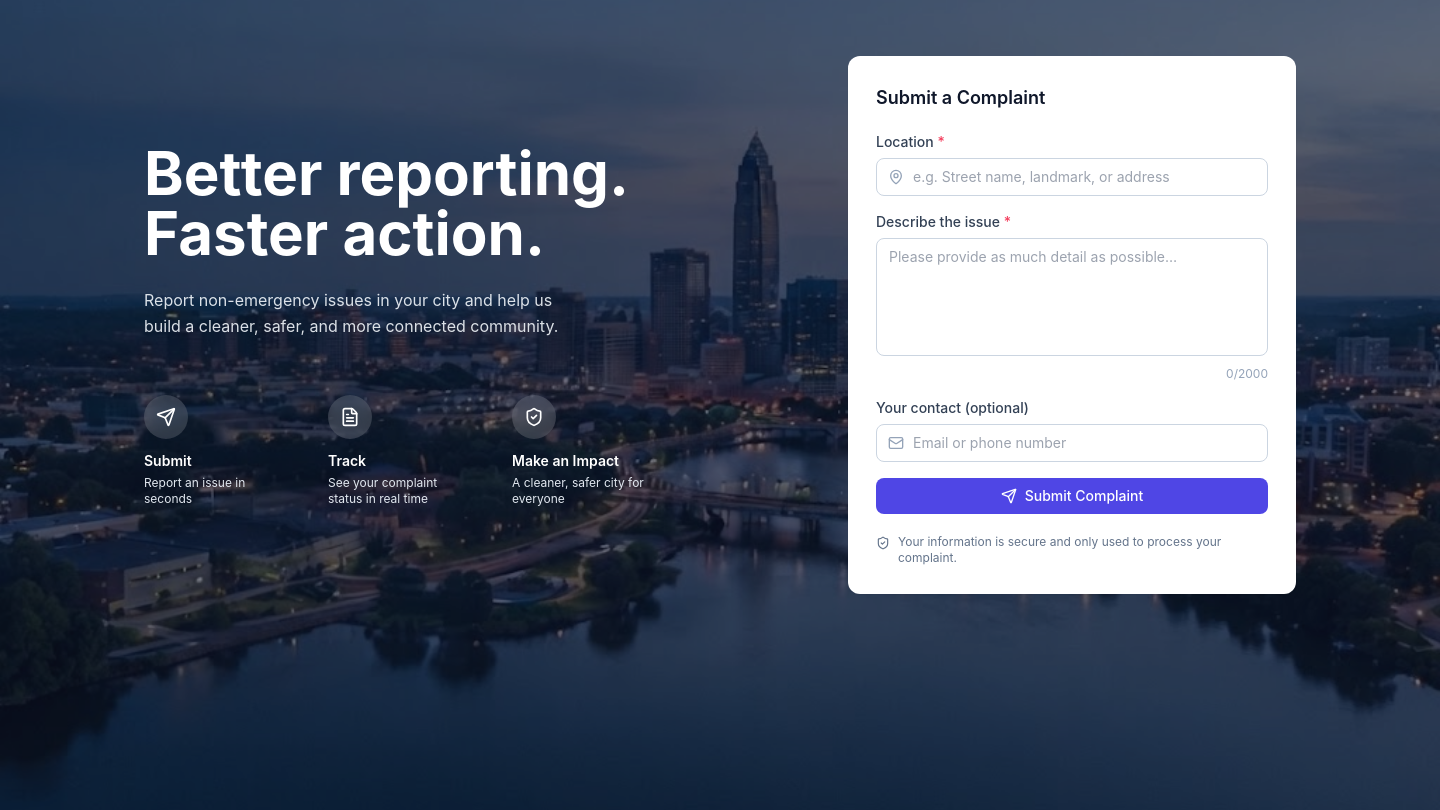
Test: Submit view › shows local validation errors when fields are empty
The image size is (1440, 810).
Click the button "Submit Complaint" at (1072, 496), box 876,478 -> 1268,514
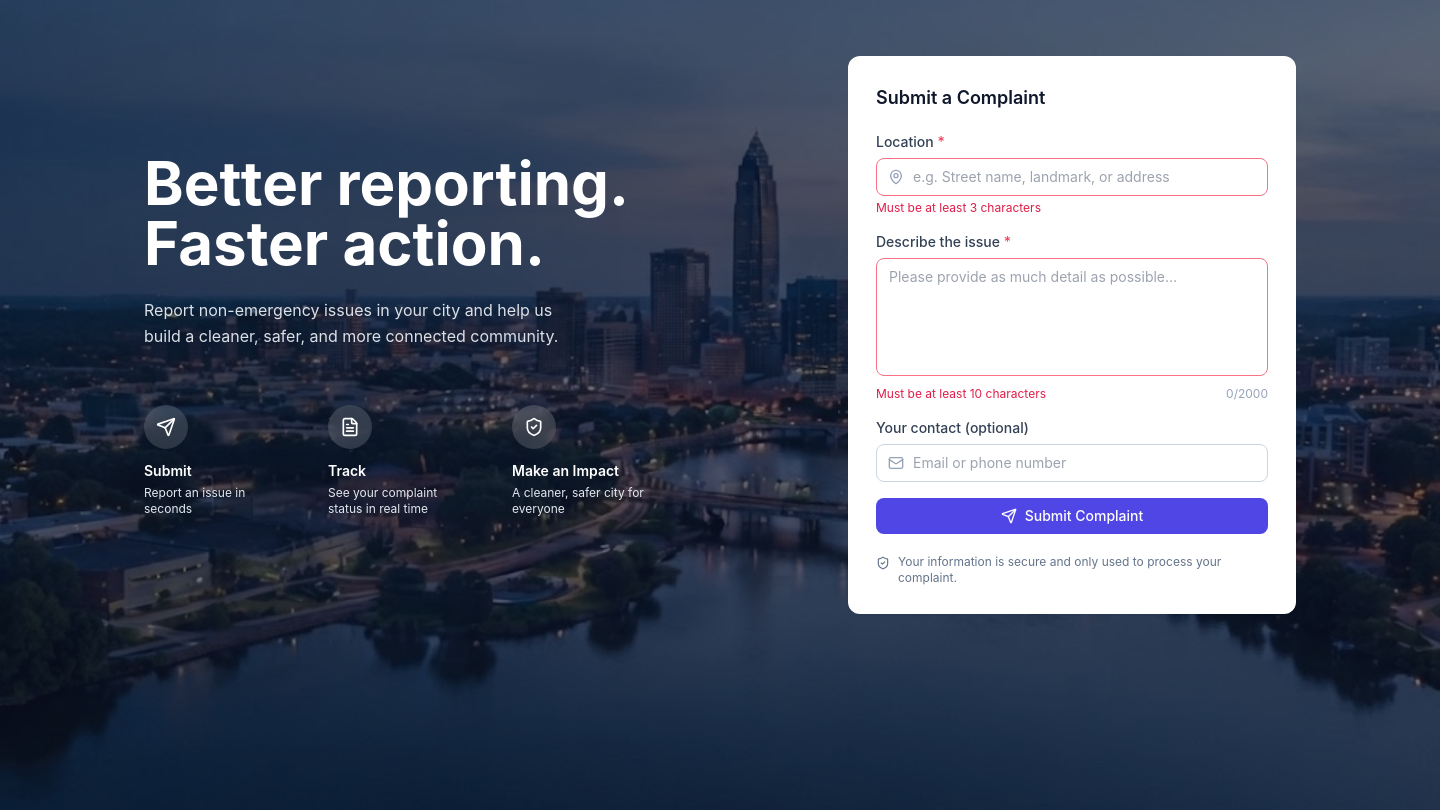
Now the text "Must be at least 10 characters" is shown, box 876,386 -> 1046,402
Now the text "Must be at least 3 characters" is shown, box 876,200 -> 1041,215
